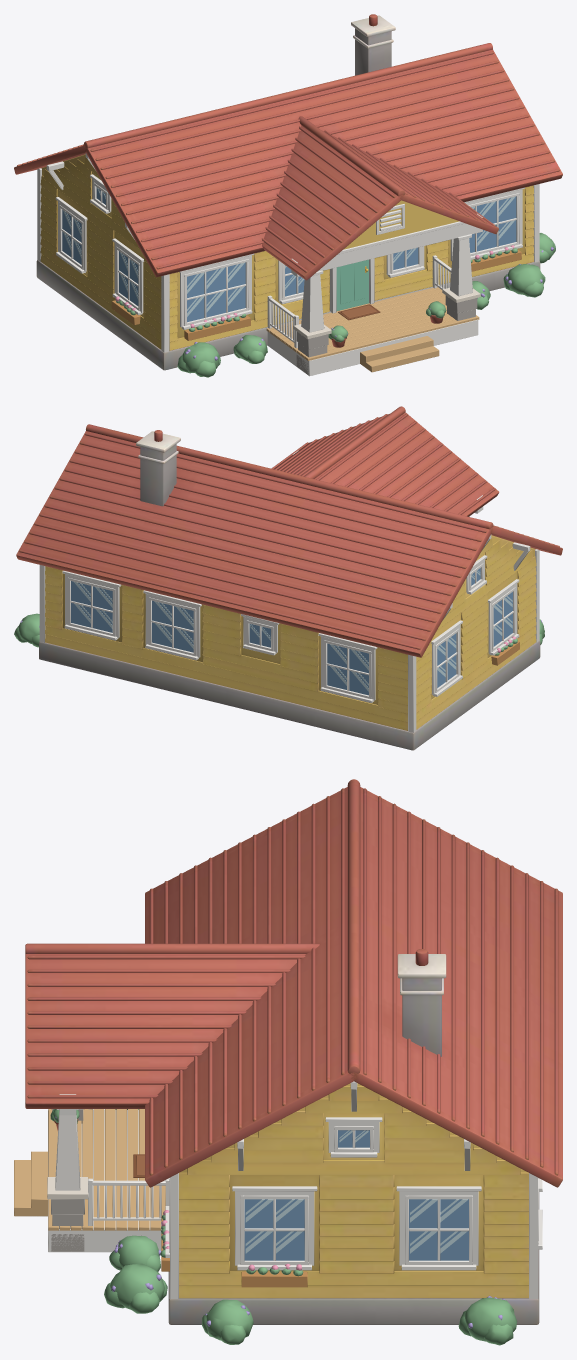
The model's file is bungalow.glb.
The picture shows the model from 3 angles, top to bottom: view 1: azimuth 30°, elevation 25°; view 2: azimuth 150°, elevation 25°; view 3: azimuth 270°, elevation 25°; orthographic projection. The views are drawn at different scales.
Parts seen in each view (by area): view 1: bungalow_body, bungalow_details, bungalow_plants, bungalow_glints, bungalow_door_l, bungalow_frame; view 2: bungalow_body, bungalow_details, bungalow_glints, bungalow_plants; view 3: bungalow_body, bungalow_details, bungalow_plants, bungalow_glints.
Boxes of the visible parts, x1,y1,x2,y2 form: bungalow_body: (14,14,562,370); bungalow_details: (37,153,539,376); bungalow_plants: (177,233,555,377); bungalow_glints: (63,187,515,316); bungalow_door_l: (336,259,368,310); bungalow_frame: (330,258,374,313); bungalow_body: (16,406,562,750); bungalow_details: (39,450,539,732); bungalow_glints: (74,570,512,691); bungalow_plants: (14,613,544,647); bungalow_body: (25,779,562,1324); bungalow_details: (14,1081,542,1299); bungalow_plants: (50,1109,517,1345); bungalow_glints: (245,1130,467,1253).
Bounding box in the file's own units: 12.66 × 6.2 × 9.69.
20 materials, 1 textured.
